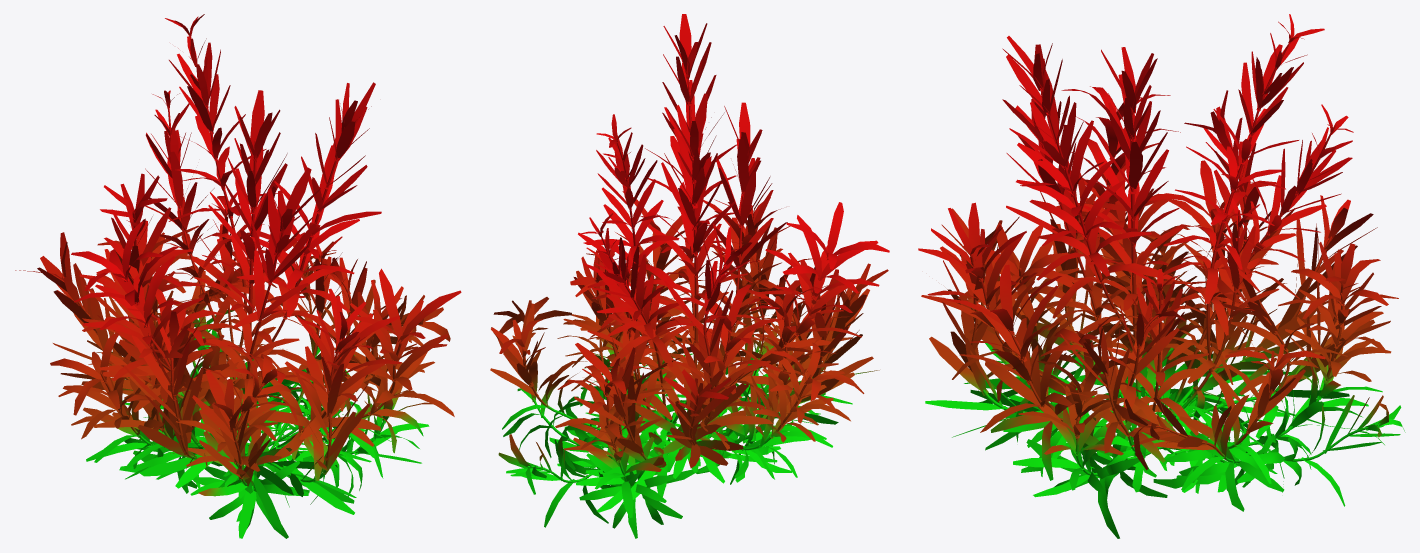
File: Var4_LOD1.fbx
3 views of the same model, side by side, from view 1: azimuth 30°, elevation 25°; view 2: azimuth 150°, elevation 25°; view 3: azimuth 270°, elevation 25° (orthographic). The views are drawn at different scales.
Visible parts, largest first — view 1: _suji_Var4_LOD1; view 2: _suji_Var4_LOD1; view 3: _suji_Var4_LOD1.
Boxes of the visible parts, left/top/right/bottom form: _suji_Var4_LOD1: left=15, top=14, right=461, bottom=538; _suji_Var4_LOD1: left=490, top=14, right=889, bottom=538; _suji_Var4_LOD1: left=918, top=14, right=1405, bottom=538.
Size of the model in its own units: 29.19 by 32 by 29.17.
